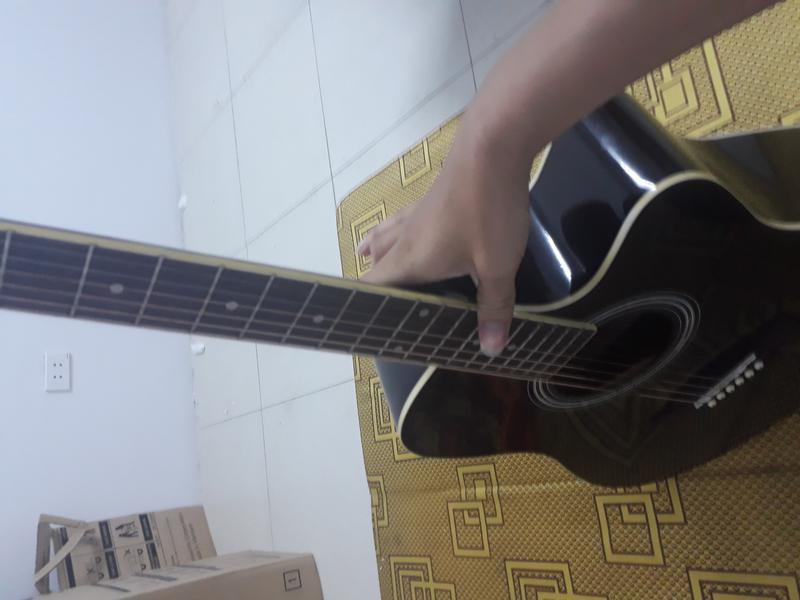my guitar: (1, 89, 798, 489)
